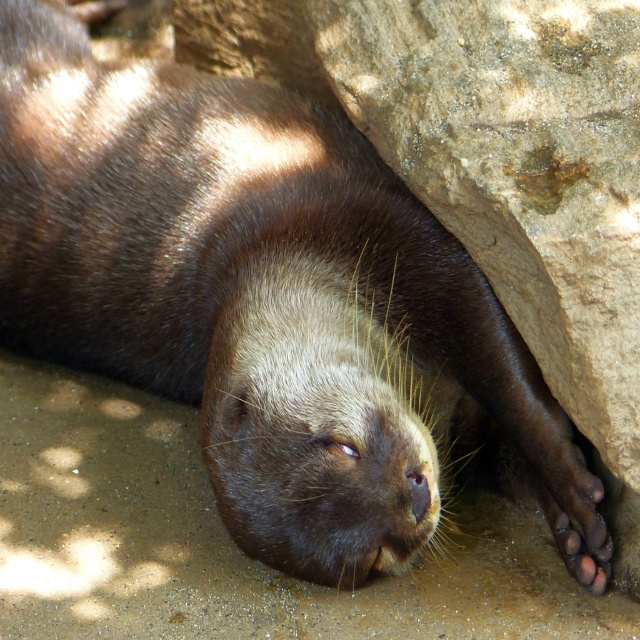Otter: (0, 0, 613, 613)
